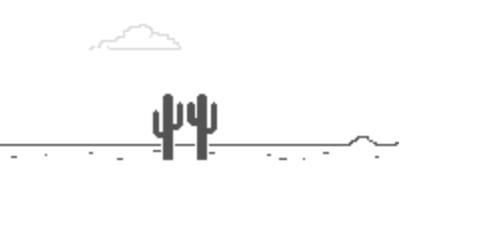dead-t-rex: (149, 90, 222, 167)
